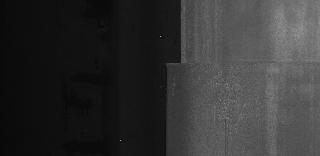welding line: (164, 55, 320, 67)
